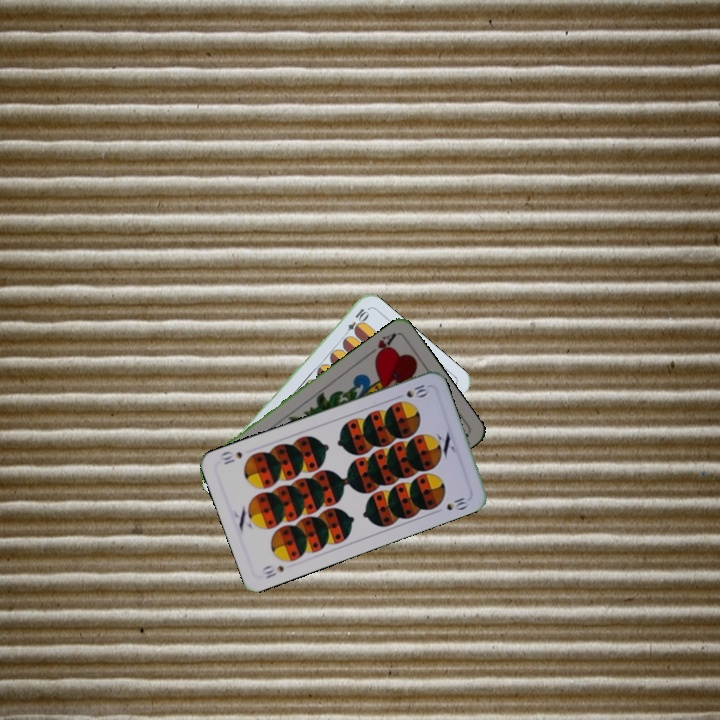E10: (339, 304, 371, 341)
HA: (363, 329, 399, 362)
S10: (392, 380, 431, 401), (258, 561, 287, 581)
